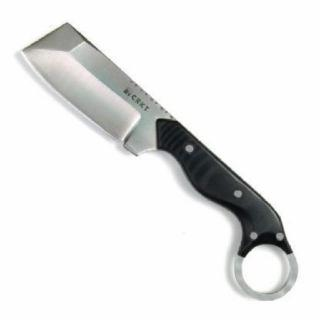knife: (6, 3, 182, 179)
